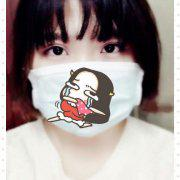OK: (34, 26, 151, 143)
